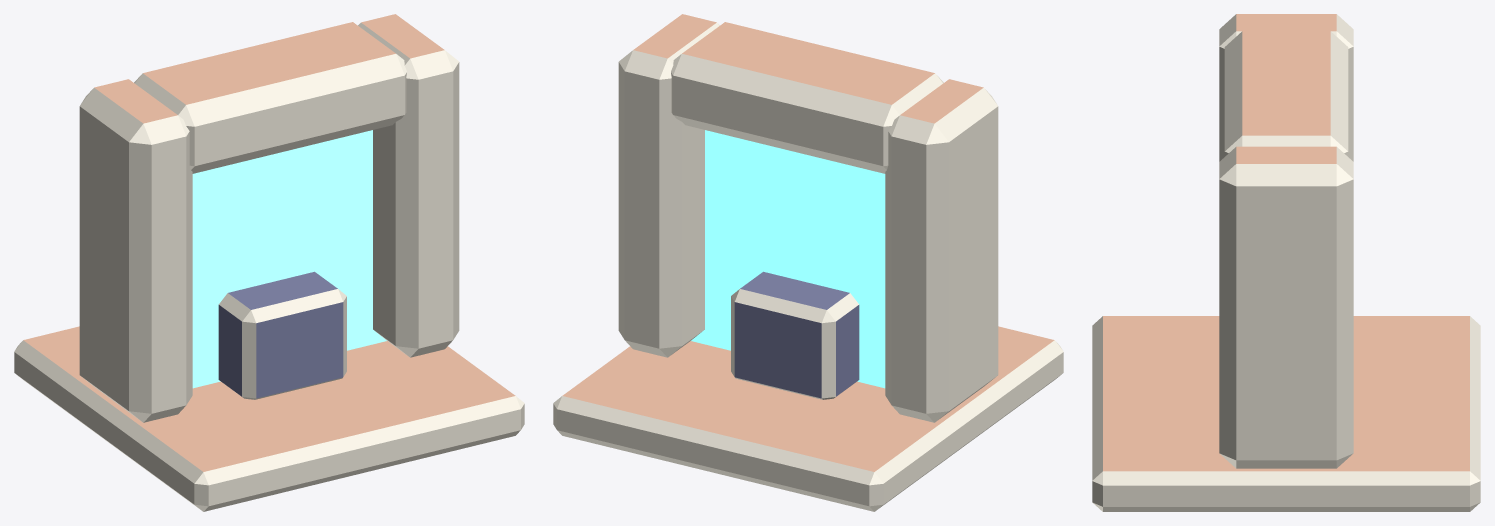
Rendered from R4X_StructuralScanner_LOD1.fbx.
The picture shows the model from 3 angles, left to right: view 1: azimuth 30°, elevation 25°; view 2: azimuth 150°, elevation 25°; view 3: azimuth 270°, elevation 25°; orthographic projection.
Parts seen in each view (by area): view 1: R4X_StructuralScanner_LOD1; view 2: R4X_StructuralScanner_LOD1; view 3: R4X_StructuralScanner_LOD1.
Part boxes in pixels (left/top/right/bottom): R4X_StructuralScanner_LOD1: left=14, top=14, right=524, bottom=511; R4X_StructuralScanner_LOD1: left=553, top=14, right=1063, bottom=511; R4X_StructuralScanner_LOD1: left=1092, top=14, right=1480, bottom=511.
Size of the model in its own units: 0.52 by 0.5181 by 0.52.
